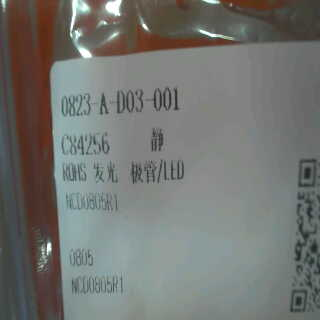LED: (90, 158, 191, 183)
